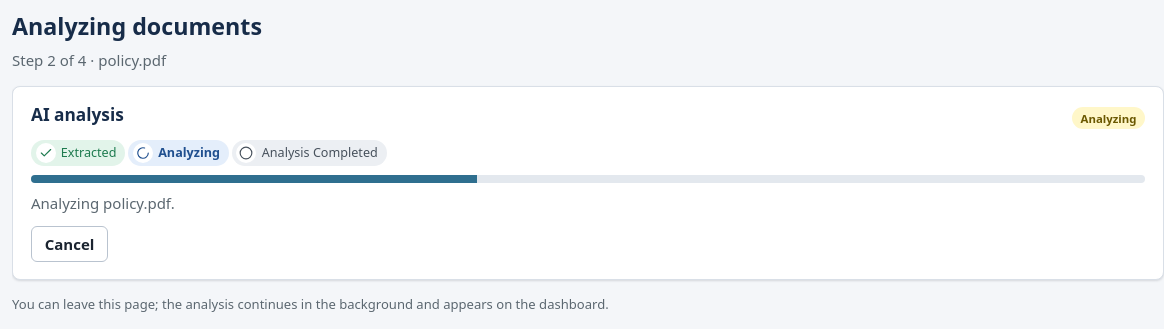
AnalysisPage while the model is slow › sends one cancel request and shows that cancellation is in progress
Click the button "Cancel".
click(70, 244)  # box [31,226,108,262]
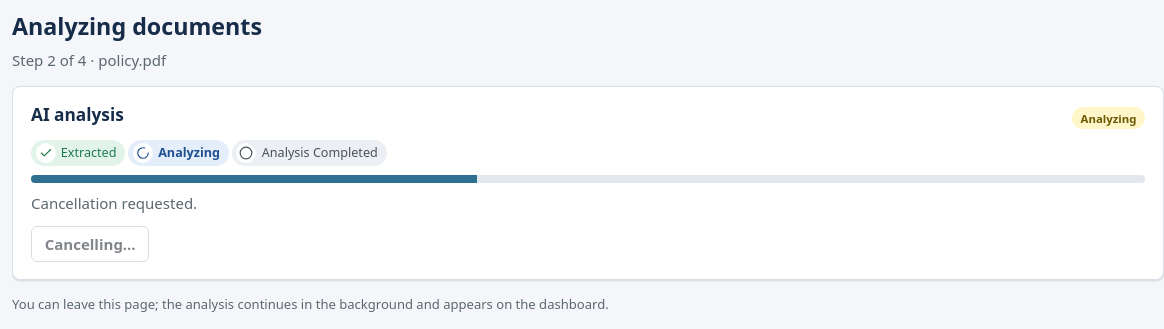
Result: the button "Cancelling…" is disabled at [31,226,150,262]
